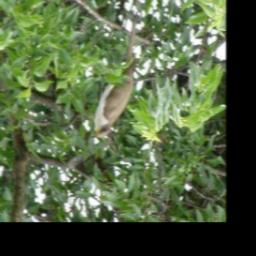Cuckoo: (87, 9, 140, 143)
